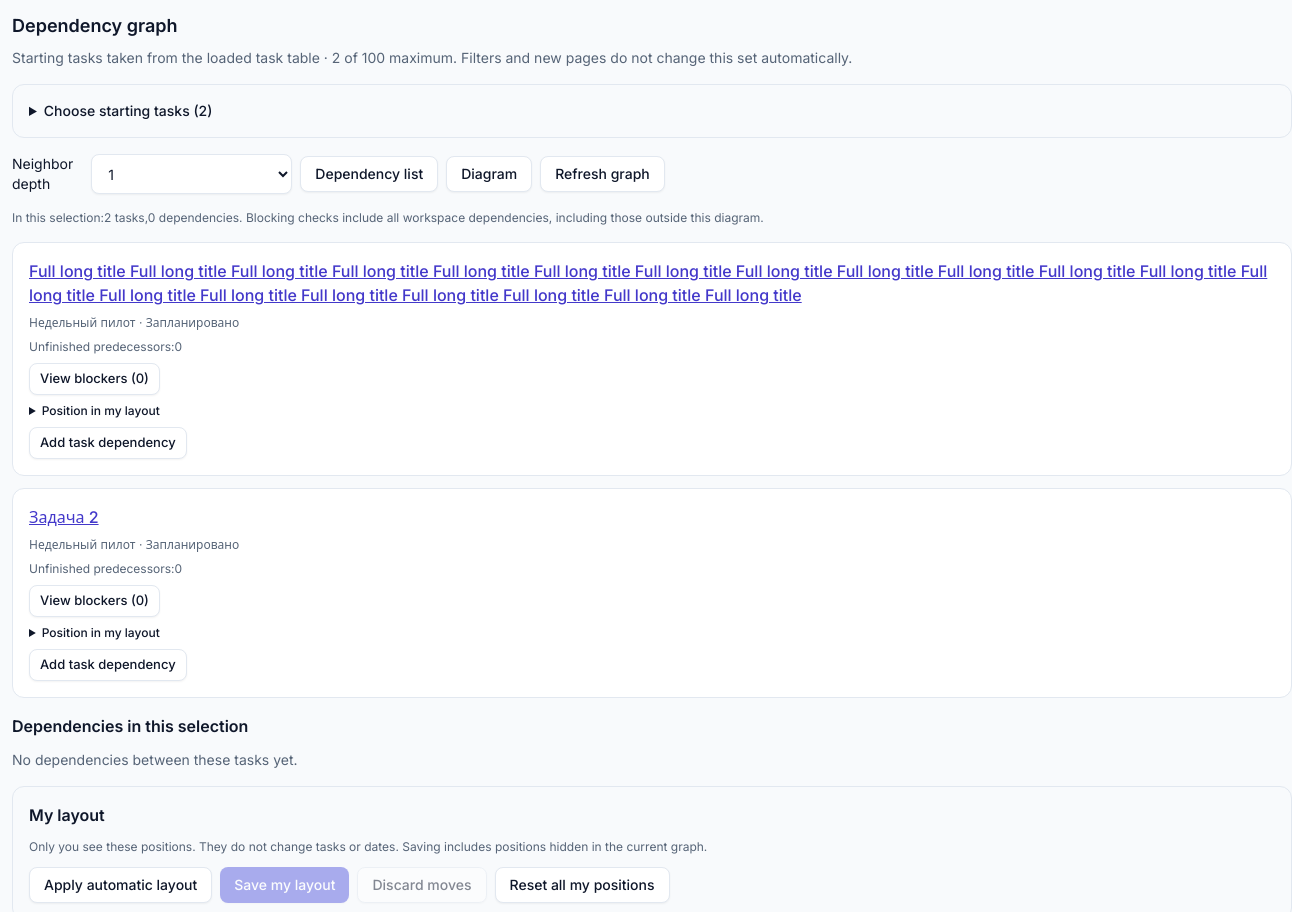
it: measured GraphView automatic arrangement from the task list › keeps saved positions until explicit Arrange, uses measured sizes and retains hidden positions without saving
expect the list named "Graph tasks and dependencies" is shown: met, box [12, 242, 1291, 698]
Click the button "Apply automatic layout". click: x=121, y=885
box: [29, 867, 212, 903]
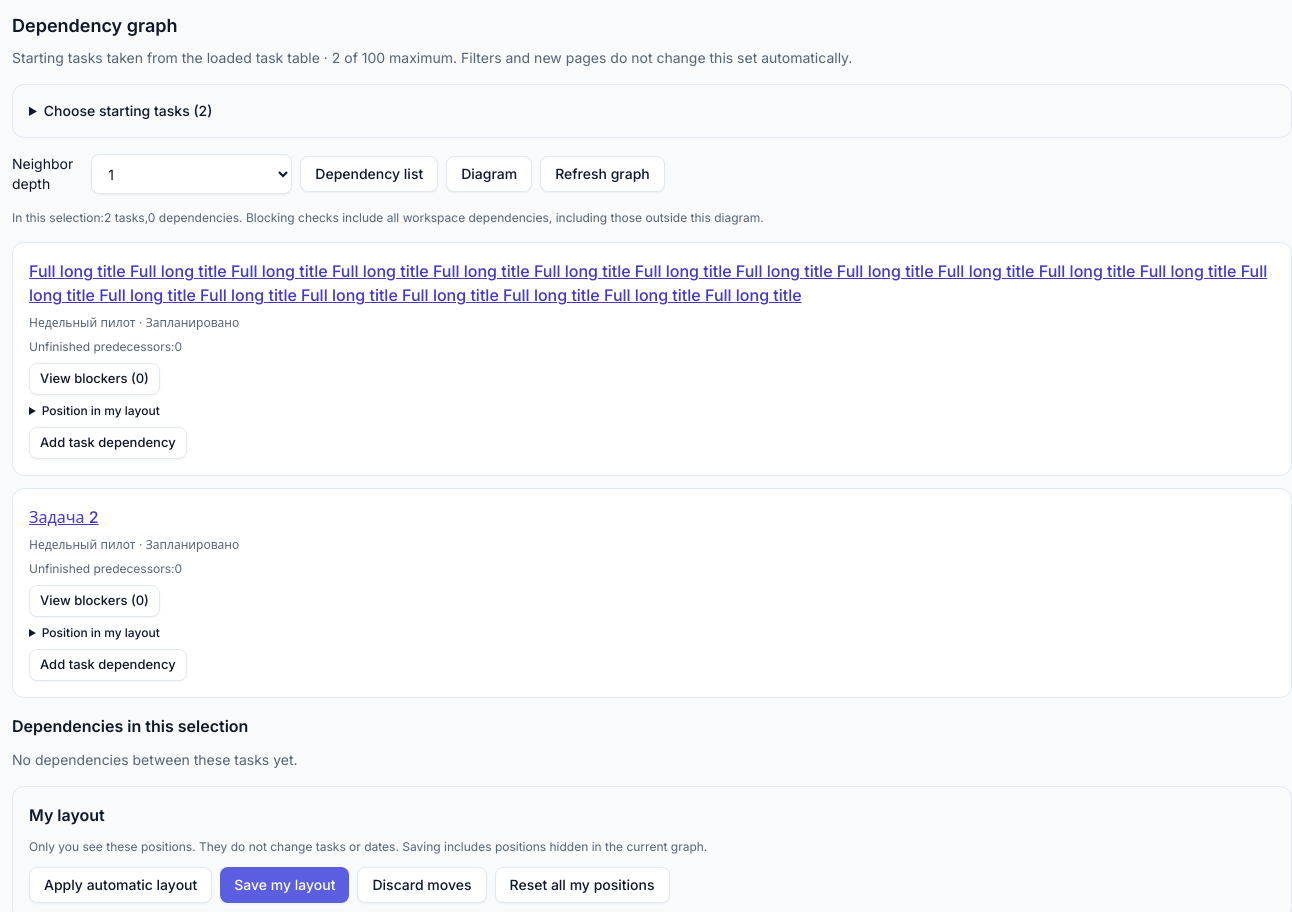
expect the button "Save my layout" is enabled: met, box [220, 867, 350, 903]
